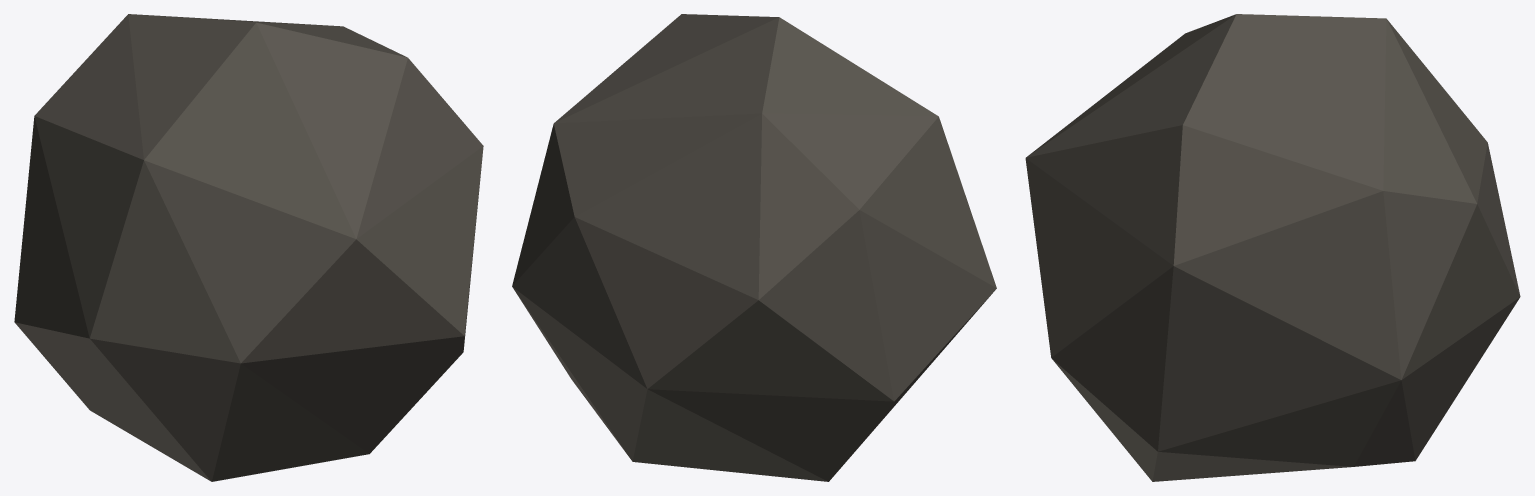
File: Cannonball_1.fbx
3 renders of one model, left to right at view 1: azimuth 30°, elevation 25°; view 2: azimuth 150°, elevation 25°; view 3: azimuth 270°, elevation 25°, orthographic. The views are drawn at different scales.
Parts seen in each view (by area): view 1: Cannonball_1; view 2: Cannonball_1; view 3: Cannonball_1.
Part boxes in pixels (left/top/right/bottom): Cannonball_1: left=14, top=14, right=483, bottom=481; Cannonball_1: left=512, top=14, right=996, bottom=481; Cannonball_1: left=1025, top=14, right=1520, bottom=481.
Size of the model in its own units: 17.3 by 18.28 by 18.45.
